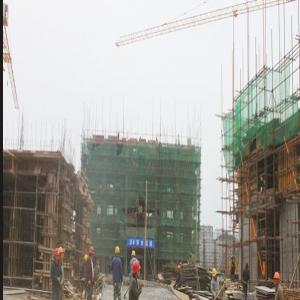none: (246, 263, 249, 271)
red: (133, 261, 142, 279), (89, 246, 95, 259), (55, 248, 60, 263), (178, 265, 181, 273)
yellow: (274, 271, 281, 286), (60, 246, 65, 262), (212, 268, 218, 279), (116, 245, 121, 258), (132, 250, 137, 259), (85, 254, 88, 263)
